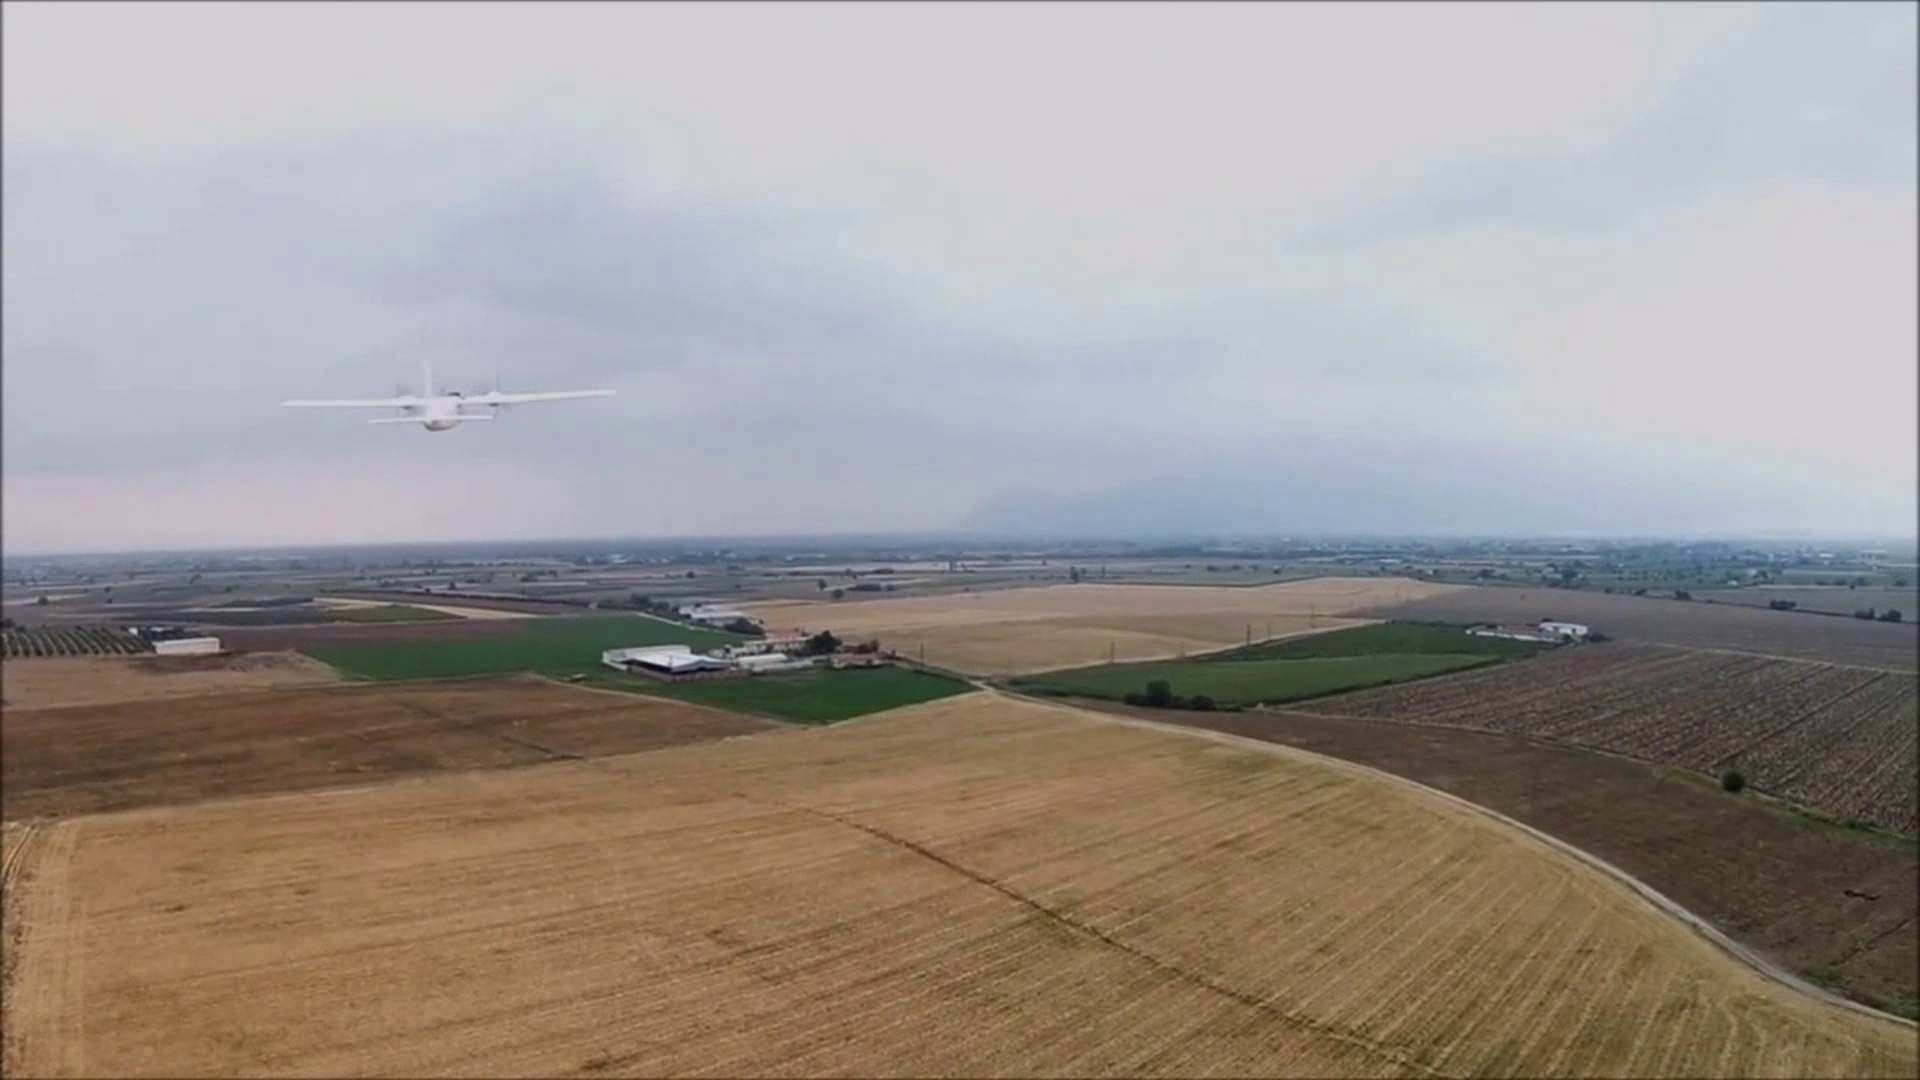airplane: (280, 378, 622, 430)
